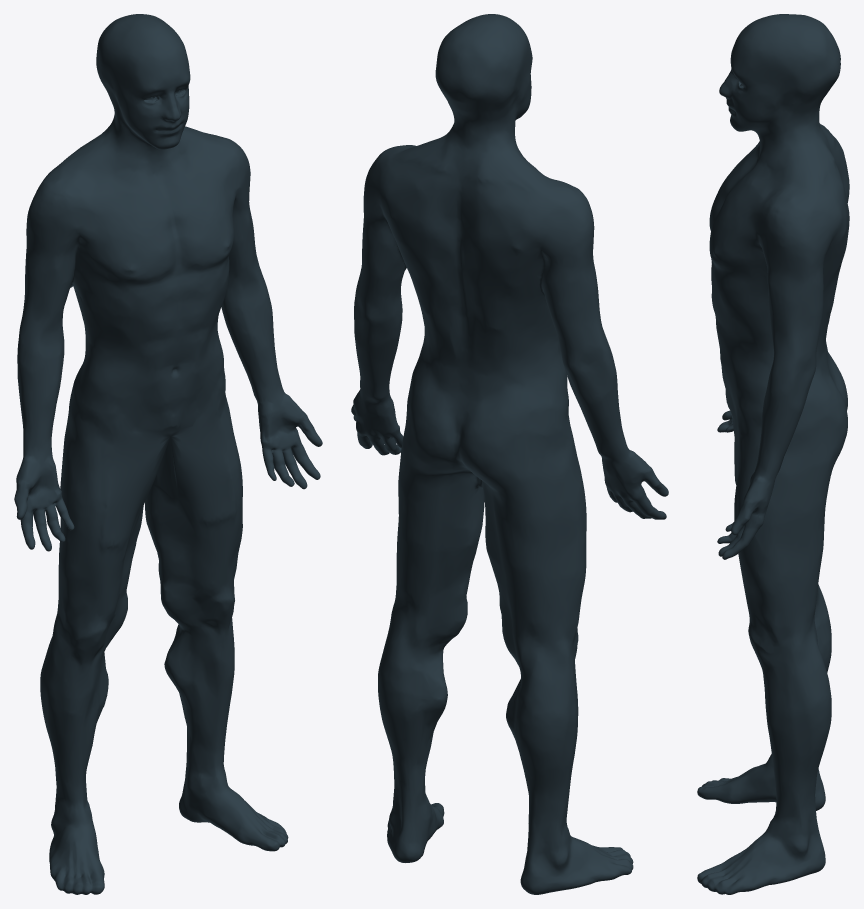
Rendered from twin-anatomy-pose-candidate.glb.
The picture shows the model from 3 angles, left to right: view 1: azimuth 30°, elevation 25°; view 2: azimuth 150°, elevation 25°; view 3: azimuth 270°, elevation 25°; orthographic projection. The views are drawn at different scales.
Visible parts, largest first — view 1: twin-region:legs, twin-region:neutral, twin-region:abs, twin-region:arms, twin-region:chest, twin-region:shoulders, twin-region:glutes, twin-region:back; view 2: twin-region:legs, twin-region:neutral, twin-region:arms, twin-region:glutes, twin-region:back, twin-region:shoulders, twin-region:abs, twin-region:core; view 3: twin-region:neutral, twin-region:legs, twin-region:arms, twin-region:abs, twin-region:shoulders, twin-region:glutes, twin-region:chest, twin-region:back, twin-region:core.
Boxes of the visible parts, x1,y1,x2,y2 form: twin-region:legs: (40,393,242,816); twin-region:neutral: (14,14,322,894); twin-region:abs: (76,249,231,461); twin-region:arms: (16,194,307,500); twin-region:chest: (75,155,237,285); twin-region:shoulders: (26,134,250,259); twin-region:glutes: (61,357,84,470); twin-region:back: (53,130,214,179); twin-region:legs: (378,393,586,842); twin-region:neutral: (351,14,668,894); twin-region:arms: (351,211,656,491); twin-region:glutes: (398,349,567,522); twin-region:back: (387,146,565,349); twin-region:shoulders: (363,145,594,270); twin-region:abs: (417,295,568,401); twin-region:core: (397,244,549,324); twin-region:neutral: (697,14,845,894); twin-region:legs: (734,410,831,831); twin-region:arms: (743,249,830,522); twin-region:abs: (711,259,829,448); twin-region:shoulders: (755,141,845,282); twin-region:glutes: (782,344,847,508); twin-region:chest: (709,141,770,268); twin-region:back: (763,136,849,291); twin-region:core: (751,255,843,312).
Bounding box in the file's own units: 0.6594 × 1.7 × 0.2847.
